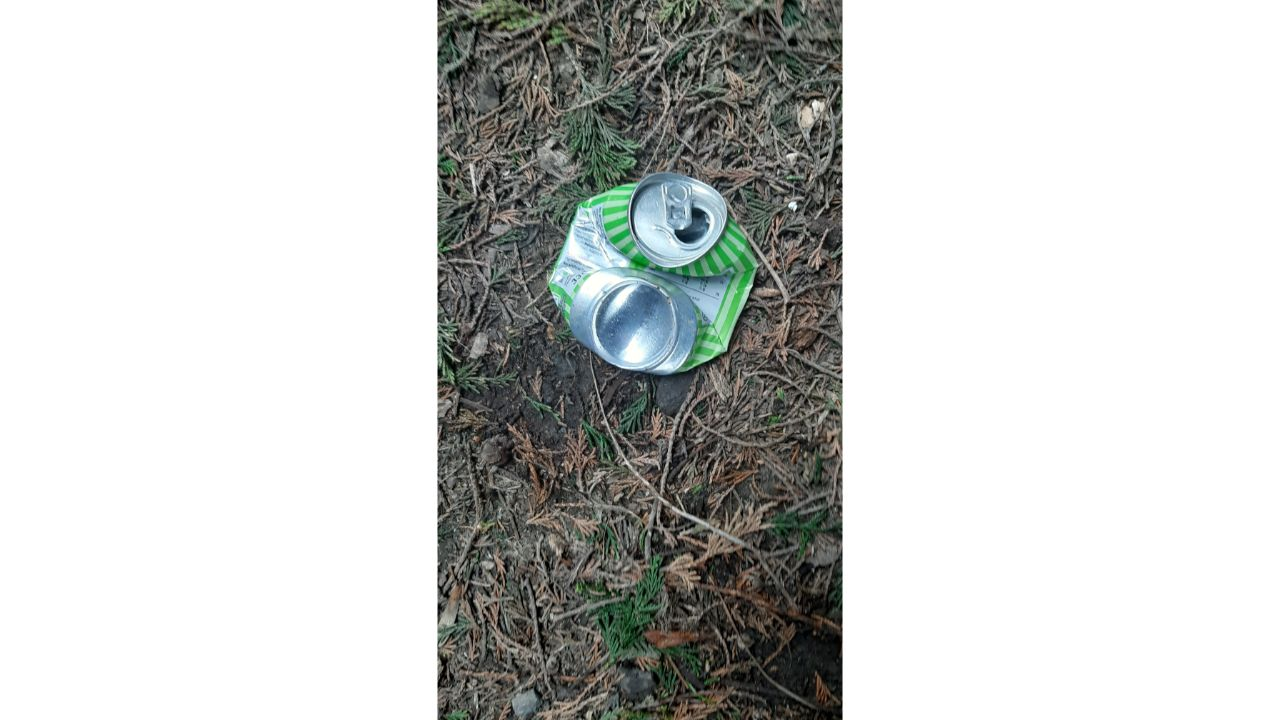Can: (542, 175, 757, 378)
